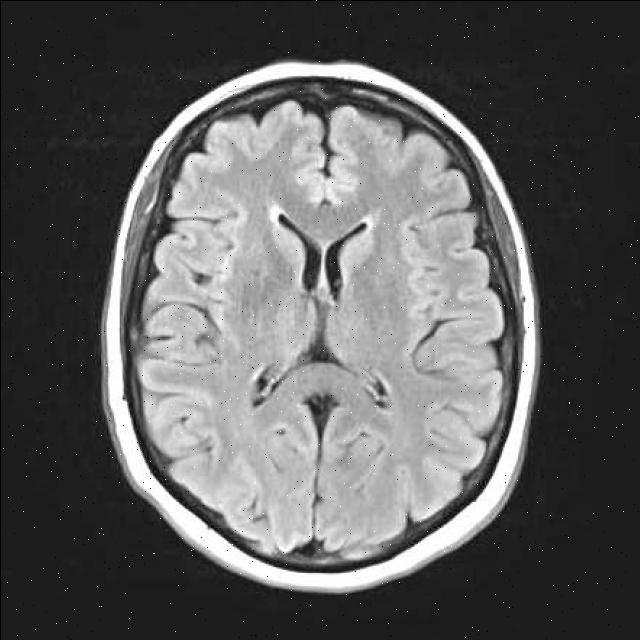No_Tumor: (103, 62, 538, 592)
